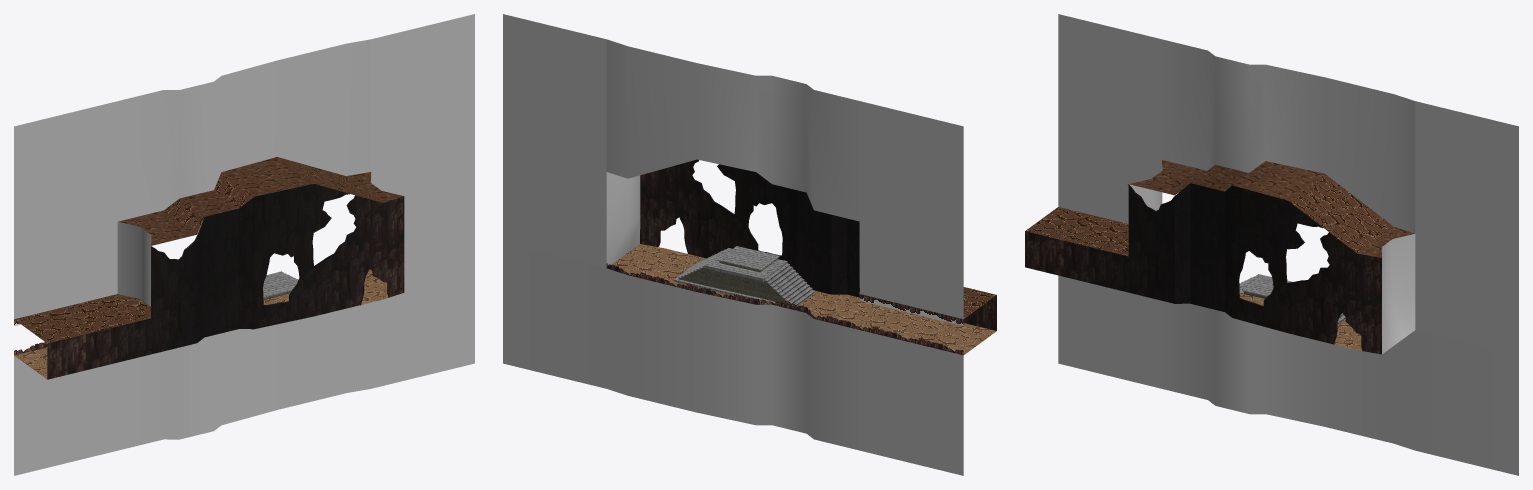
File: Room3.8.fbx
The picture shows the model from 3 angles, left to right: view 1: azimuth 30°, elevation 25°; view 2: azimuth 150°, elevation 25°; view 3: azimuth 330°, elevation 25°; orthographic projection.
Visible parts, largest first — view 1: polySurface58; view 2: polySurface58; view 3: polySurface58.
Boxes of the visible parts, bbox=[...] form: polySurface58: bbox=[14, 14, 474, 475]; polySurface58: bbox=[503, 14, 996, 475]; polySurface58: bbox=[1025, 14, 1518, 475].
Bounding box in the file's own units: 40 × 29 × 5.66.
